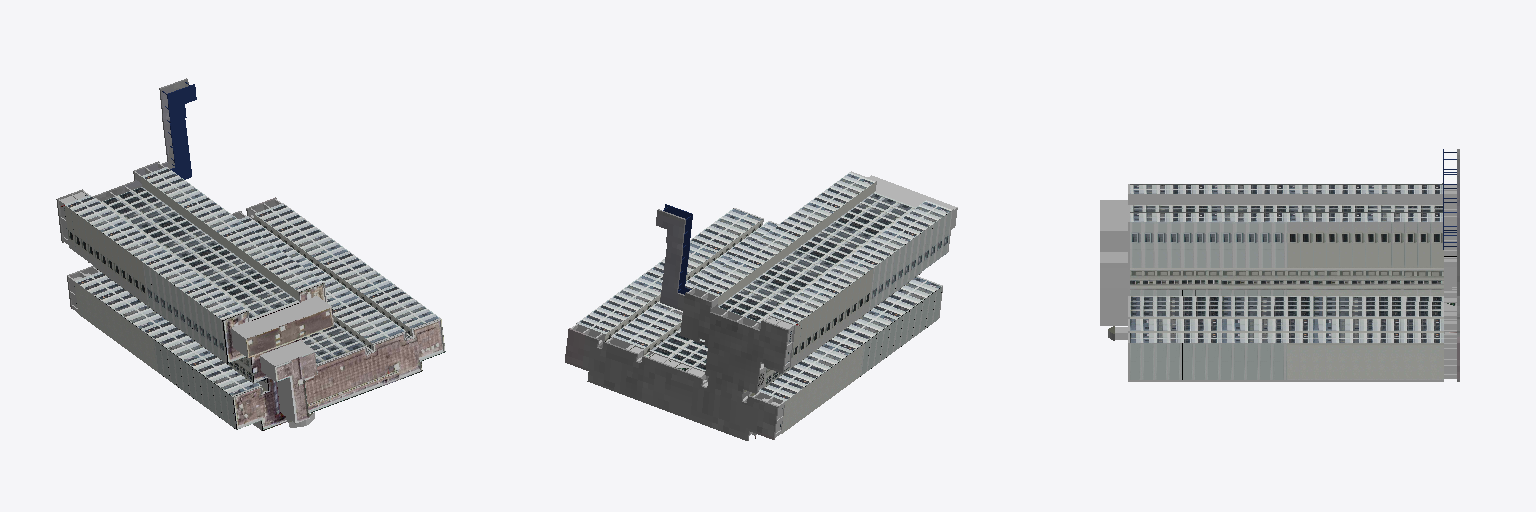
The picture shows the model from 3 angles: view 1: azimuth 30°, elevation 25°; view 2: azimuth 150°, elevation 25°; view 3: azimuth 270°, elevation 25°; orthographic projection.
Visible parts, largest first — view 1: polygon.846; view 2: polygon.846; view 3: polygon.846.
Part boxes in pixels (left/top/right/bottom): polygon.846: left=56, top=78, right=445, bottom=430; polygon.846: left=565, top=171, right=957, bottom=440; polygon.846: left=1100, top=149, right=1459, bottom=381.
Bounding box in the file's own units: 57.4 × 51.57 × 78.63.
1 materials, 1 textured.